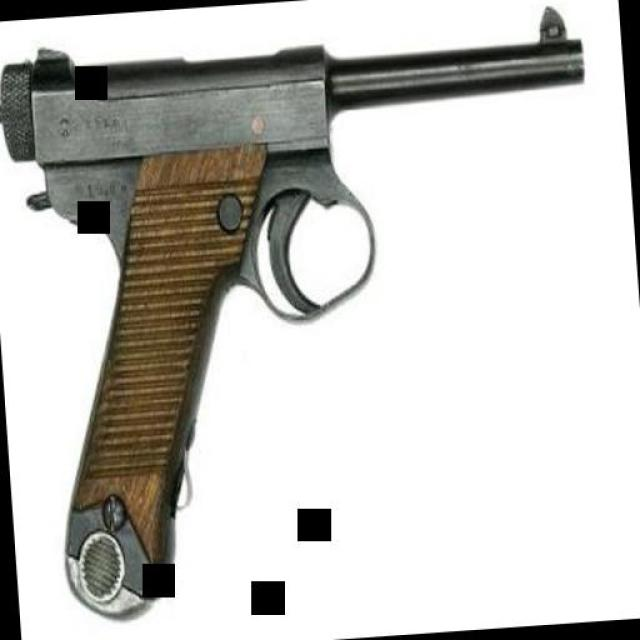gun: (0, 6, 619, 618)
